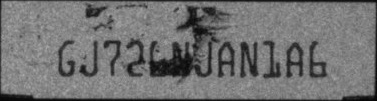1: (262, 40, 279, 78)
2: (126, 39, 145, 78)
6: (149, 40, 168, 77), (308, 40, 326, 78)
7: (102, 38, 120, 76)
A: (285, 41, 304, 78), (216, 42, 234, 78)
G: (55, 41, 75, 77)
J: (193, 39, 212, 77), (80, 40, 99, 77)
N: (238, 40, 258, 78), (171, 40, 191, 77)
